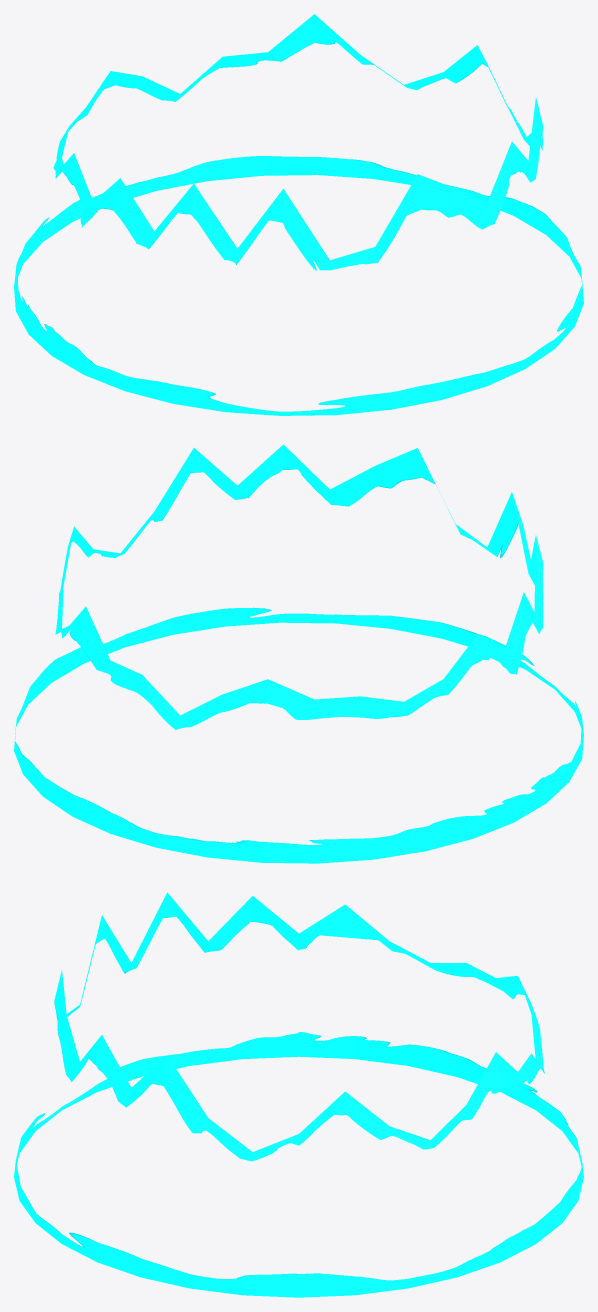
Rendered from Shield.gltf.
3 views of the same model, one above another, from view 1: azimuth 30°, elevation 25°; view 2: azimuth 150°, elevation 25°; view 3: azimuth 270°, elevation 25° (orthographic).
Visible parts, largest first — view 1: Sphere; view 2: Sphere; view 3: Sphere.
Boxes of the visible parts, x1=… form: Sphere: x1=14, y1=14, x2=583, y2=415; Sphere: x1=14, y1=444, x2=583, y2=863; Sphere: x1=14, y1=892, x2=583, y2=1297.
Size of the model in its own units: 8.35 by 3.36 by 8.35.
Materials: 1 (1 with a texture image).
